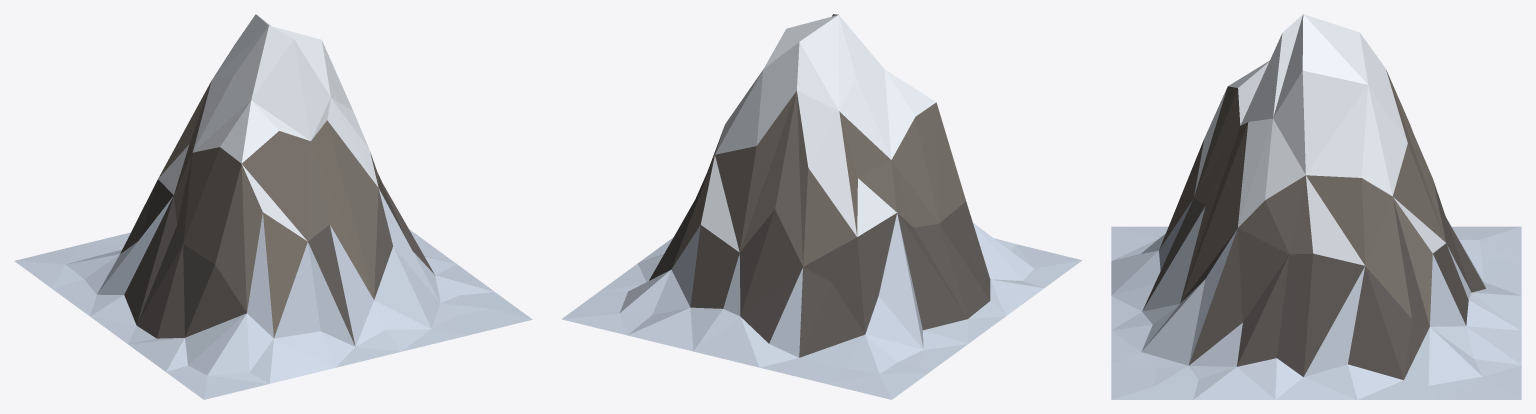
Rendered from mountain_snow_a.obj.
3 renders of one model, left to right at view 1: azimuth 30°, elevation 25°; view 2: azimuth 150°, elevation 25°; view 3: azimuth 270°, elevation 25°, orthographic. The views are drawn at different scales.
Bounding box in the file's own units: 4 × 3.16 × 4.
